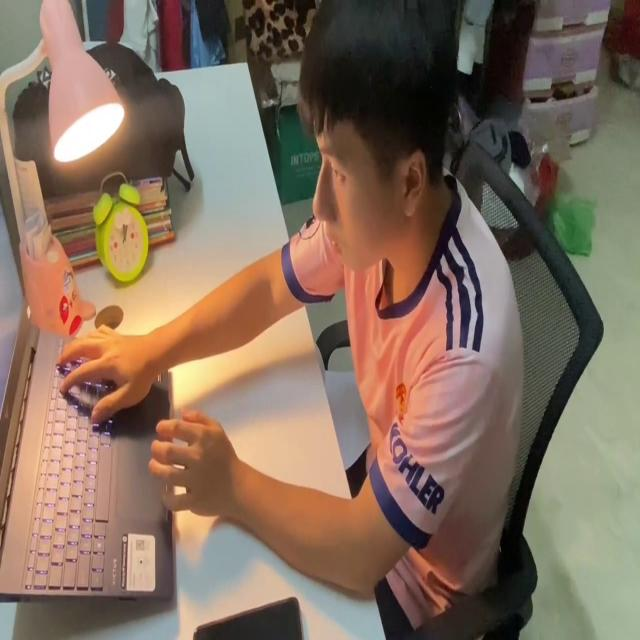book: (316, 337, 372, 476)
laptop: (1, 192, 178, 608)
phone: (194, 588, 306, 640)
student: (59, 0, 528, 640)
